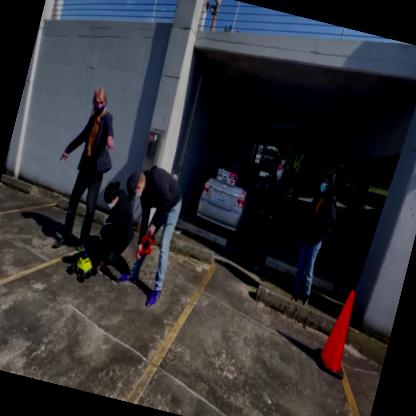cone: (312, 284, 364, 380)
mushr_car: (62, 240, 106, 288)
